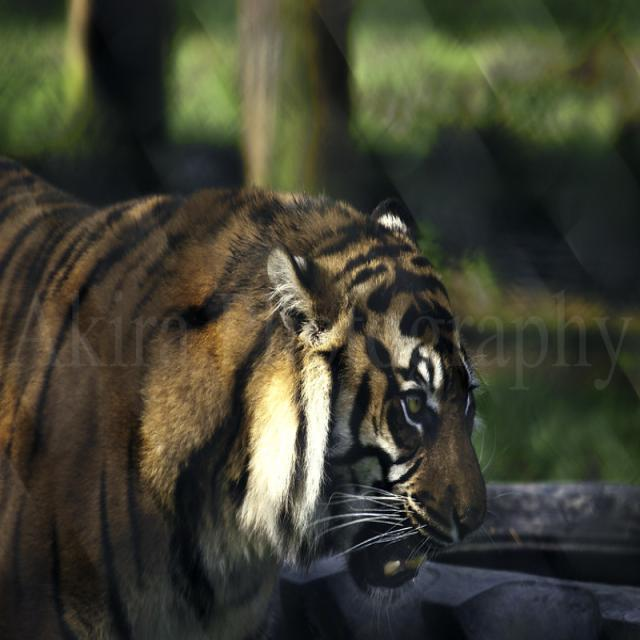Tiger: (0, 151, 494, 635)
